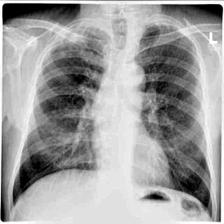tuberculosis: (6, 16, 218, 224)
